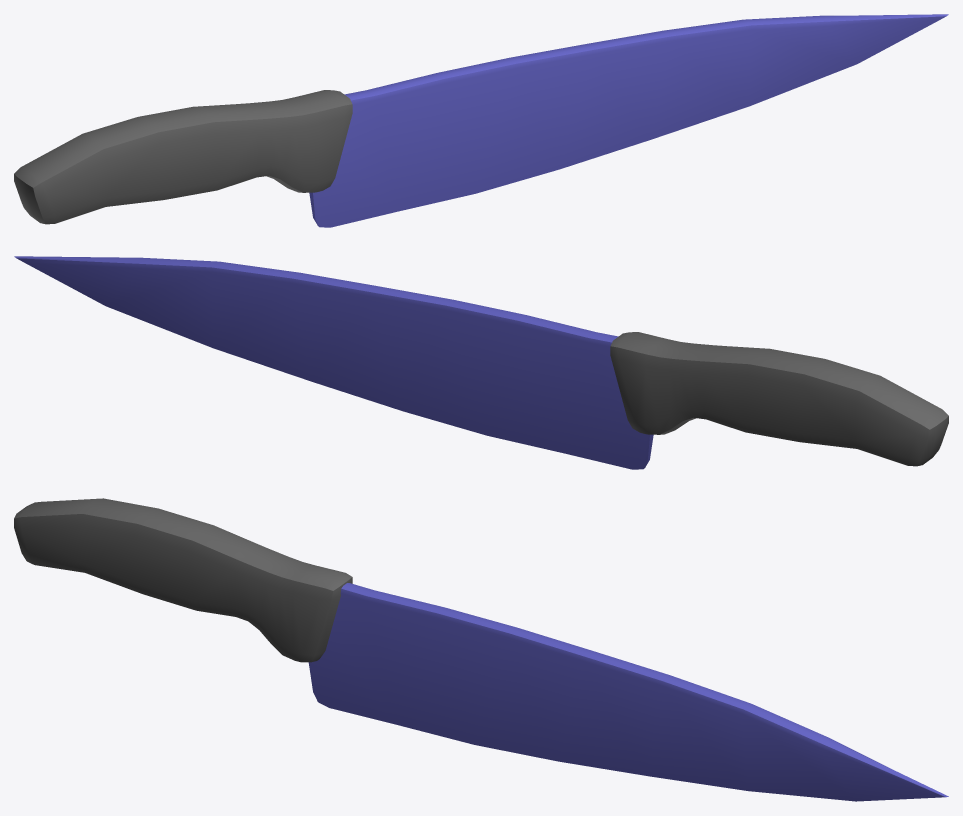
The model's file is SM_knife_02.fbx.
3 renders of one model, top to bottom at view 1: azimuth 30°, elevation 25°; view 2: azimuth 150°, elevation 25°; view 3: azimuth 330°, elevation 25°, orthographic.
Parts seen in each view (by area): view 1: Box400; view 2: Box400; view 3: Box400.
Part boxes in pixels (bbox=[...]): Box400: bbox=[14, 14, 948, 227]; Box400: bbox=[14, 256, 948, 469]; Box400: bbox=[14, 498, 948, 801].
Size of the model in its own units: 27.98 by 4.38 by 1.29.
